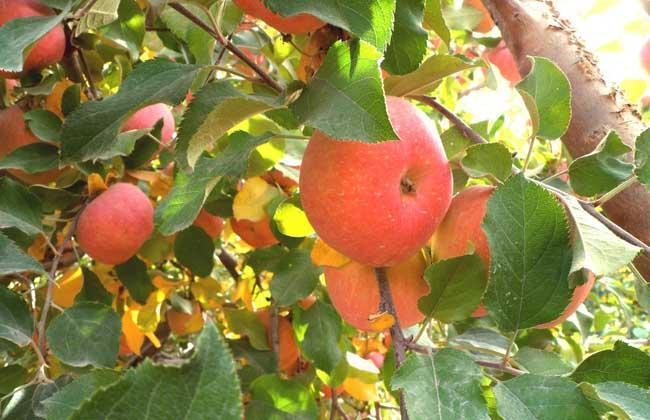apple: (300, 96, 453, 262), (436, 183, 592, 332), (324, 255, 429, 333), (77, 180, 154, 265), (1, 1, 65, 73), (123, 103, 174, 149)
